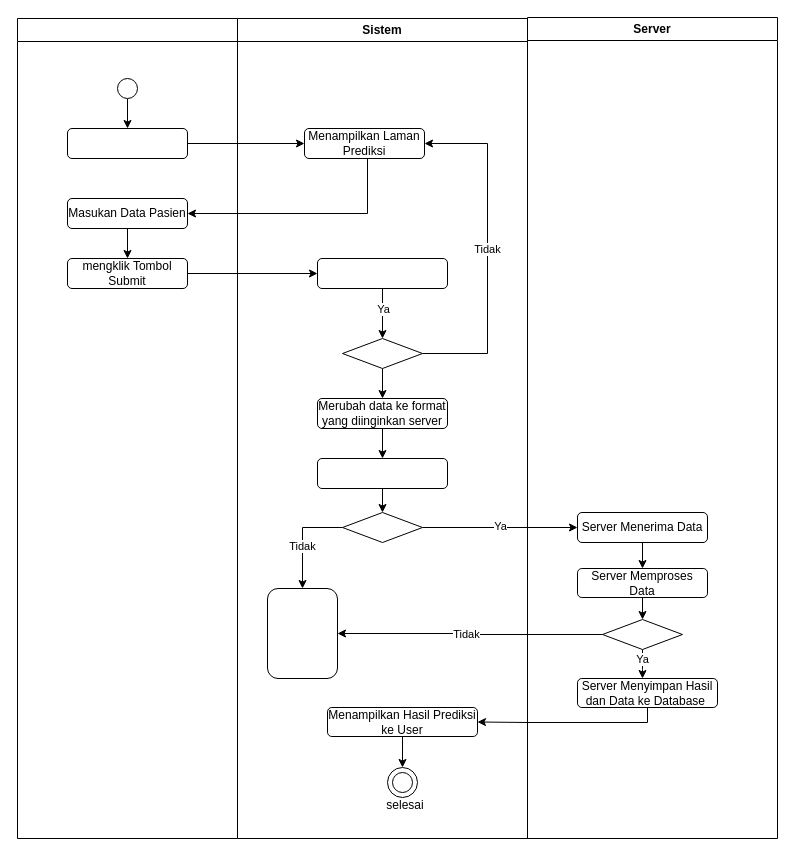
The diagram is 795 pixels wide and 856 high, and some of its shapes have lost their labels. The shapes that lost their labels are listed below. From the top down, each one's box as (x1, y1, x2, y2) in pixels, then its label:
(66, 128, 188, 158): Mengklik tombol Buat Prediksi
(316, 258, 448, 288): Memeriksa Kesesuaian data/nilai yang diinput
(16, 18, 238, 838): User
(316, 458, 448, 488): Mengirimkan Data ke Server untuk dikalkulasi
(266, 588, 338, 678): Manmpilkan Pesan Error
